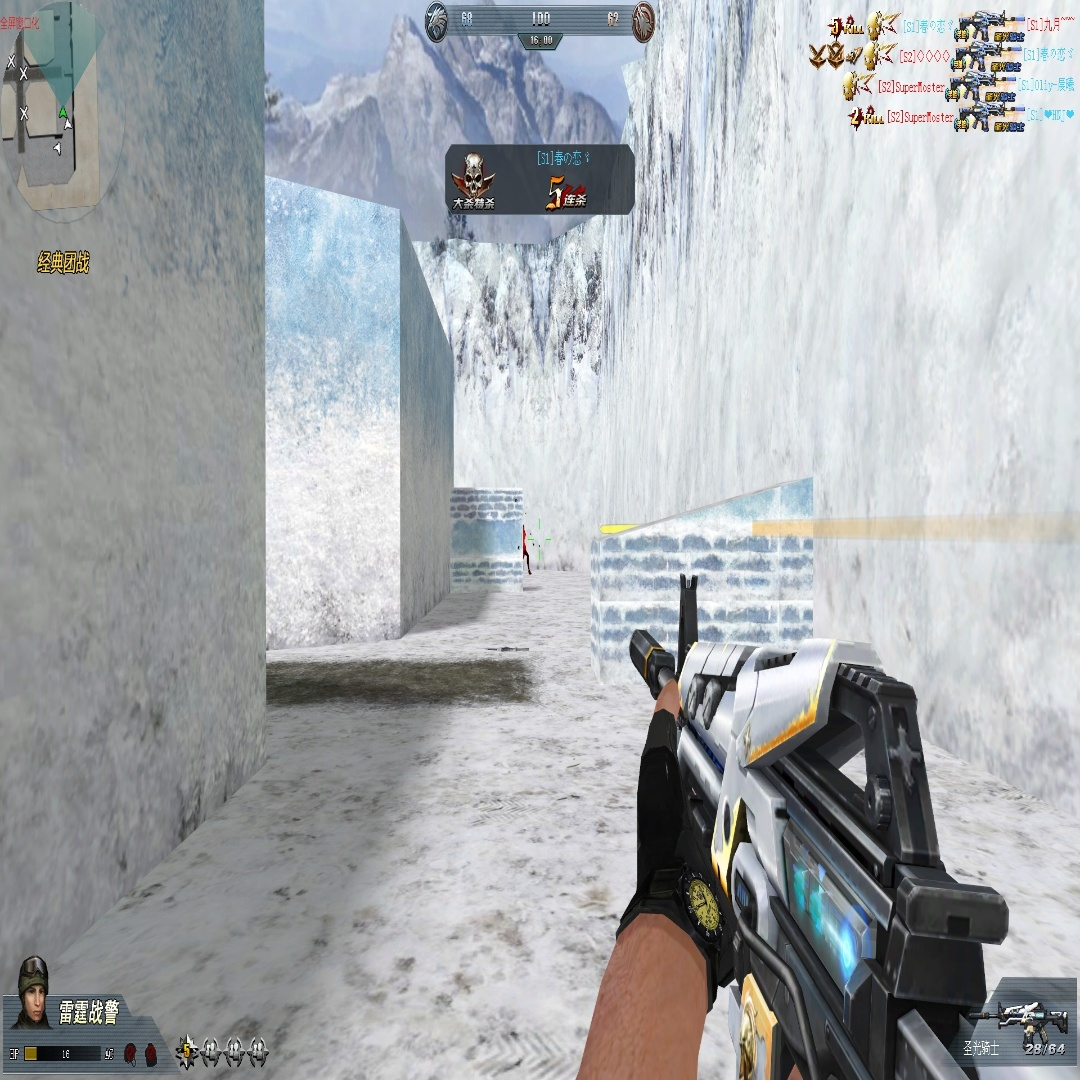t: (520, 522, 531, 578)
